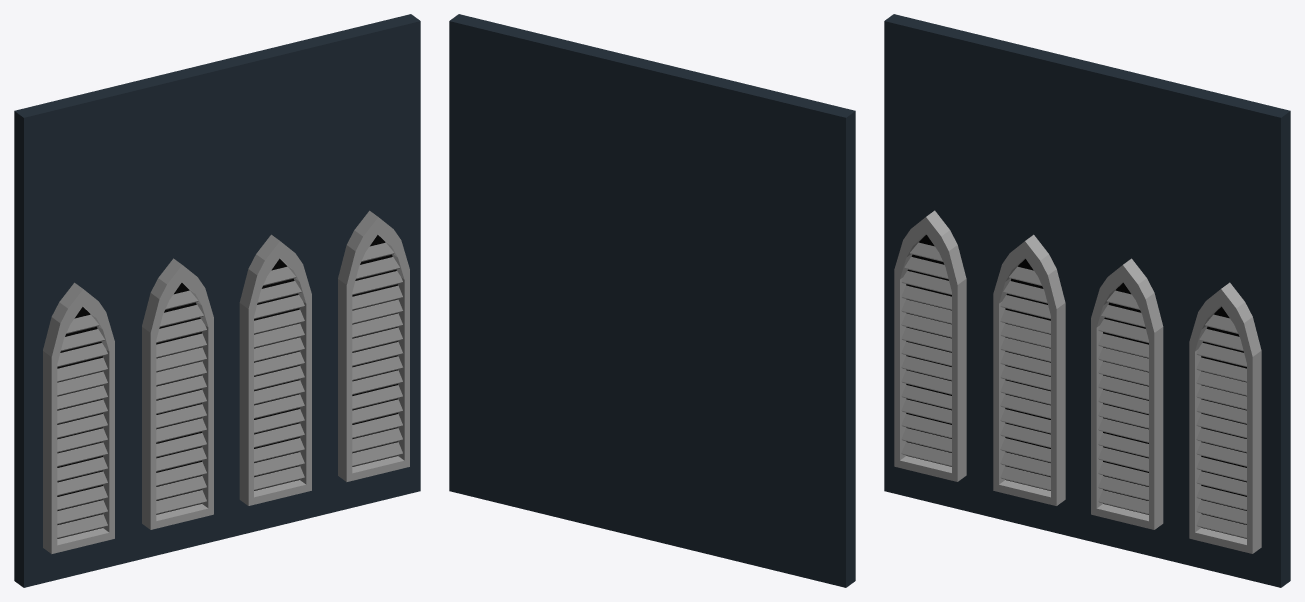
Rendered from front_tower_window_wall2.glb.
3 renders of one model, left to right at view 1: azimuth 30°, elevation 25°; view 2: azimuth 150°, elevation 25°; view 3: azimuth 330°, elevation 25°, orthographic.
Visible parts, largest first — view 1: Cube.070, Cube.053, Cube.019, Cube.036, Cube.002, Cube.052, Cube.001, Cube.018, Cube.035, Cube.005, Cube.013, Cube.045 (+53 smaller); view 2: Cube.070; view 3: Cube.070, Cube.002, Cube.019, Cube.036, Cube.053, Cube.035, Cube.001, Cube.018, Cube.052, Cube.055, Cube.060, Cube.062 (+53 smaller).
Part boxes in pixels (x1,y1,x2,y2): Cube.070: (14, 14, 420, 587); Cube.053: (239, 234, 311, 505); Cube.019: (43, 282, 114, 553); Cube.036: (142, 258, 213, 529); Cube.002: (338, 210, 409, 481); Cube.052: (254, 258, 299, 490); Cube.001: (352, 235, 397, 466); Cube.018: (57, 307, 102, 538); Cube.035: (156, 283, 201, 514); Cube.005: (352, 327, 402, 352); Cube.013: (352, 285, 402, 310); Cube.045: (156, 361, 206, 385); Cube.070: (449, 14, 855, 587); Cube.070: (884, 14, 1290, 587); Cube.002: (1189, 282, 1261, 553); Cube.019: (894, 210, 966, 481); Cube.036: (993, 234, 1065, 505); Cube.053: (1091, 258, 1163, 529); Cube.035: (1005, 259, 1050, 490); Cube.001: (1201, 306, 1246, 538); Cube.018: (906, 235, 951, 466); Cube.052: (1103, 282, 1148, 514); Cube.055: (1098, 389, 1148, 414); Cube.060: (1098, 462, 1148, 486); Cube.062: (1098, 361, 1148, 385).
Bounding box in the file's own units: 7.62 × 8.63 × 0.6158.
